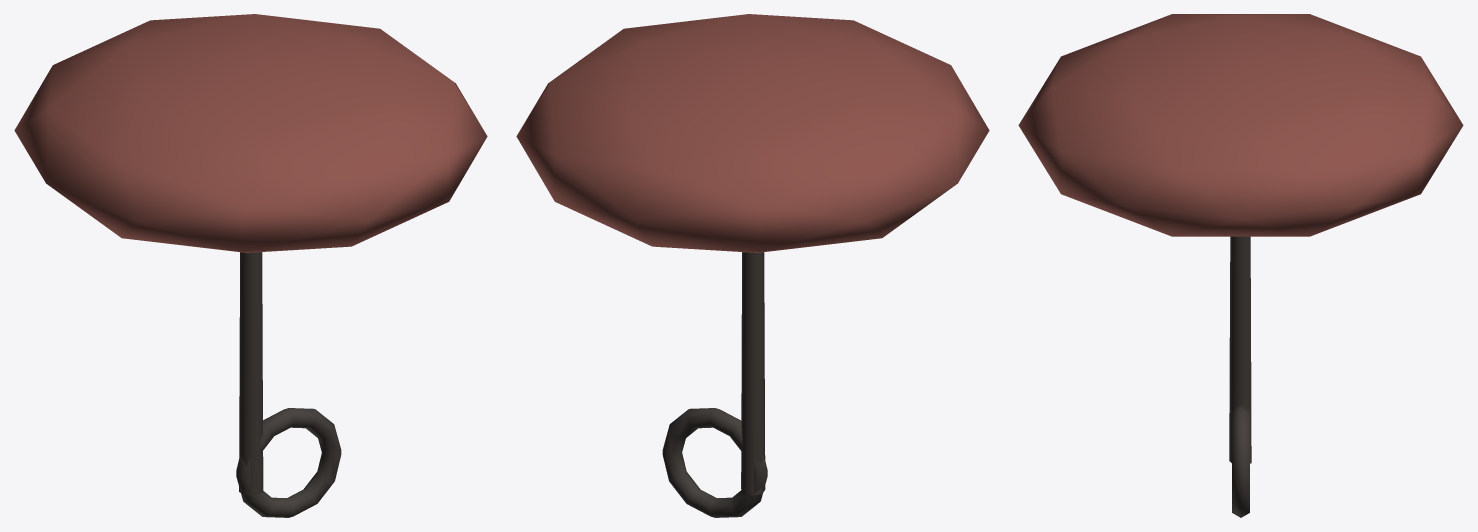
The model's file is umbrella.glb.
3 renders of one model, left to right at view 1: azimuth 30°, elevation 25°; view 2: azimuth 150°, elevation 25°; view 3: azimuth 270°, elevation 25°, orthographic. The views are drawn at different scales.
Visible parts, largest first — view 1: umbrella; view 2: umbrella; view 3: umbrella.
Part boxes in pixels (x1=…): umbrella: x1=14, y1=14, x2=487, y2=517; umbrella: x1=516, y1=14, x2=989, y2=517; umbrella: x1=1018, y1=14, x2=1463, y2=517.
Bounding box in the file's own units: 1.52 × 1.66 × 1.52.
